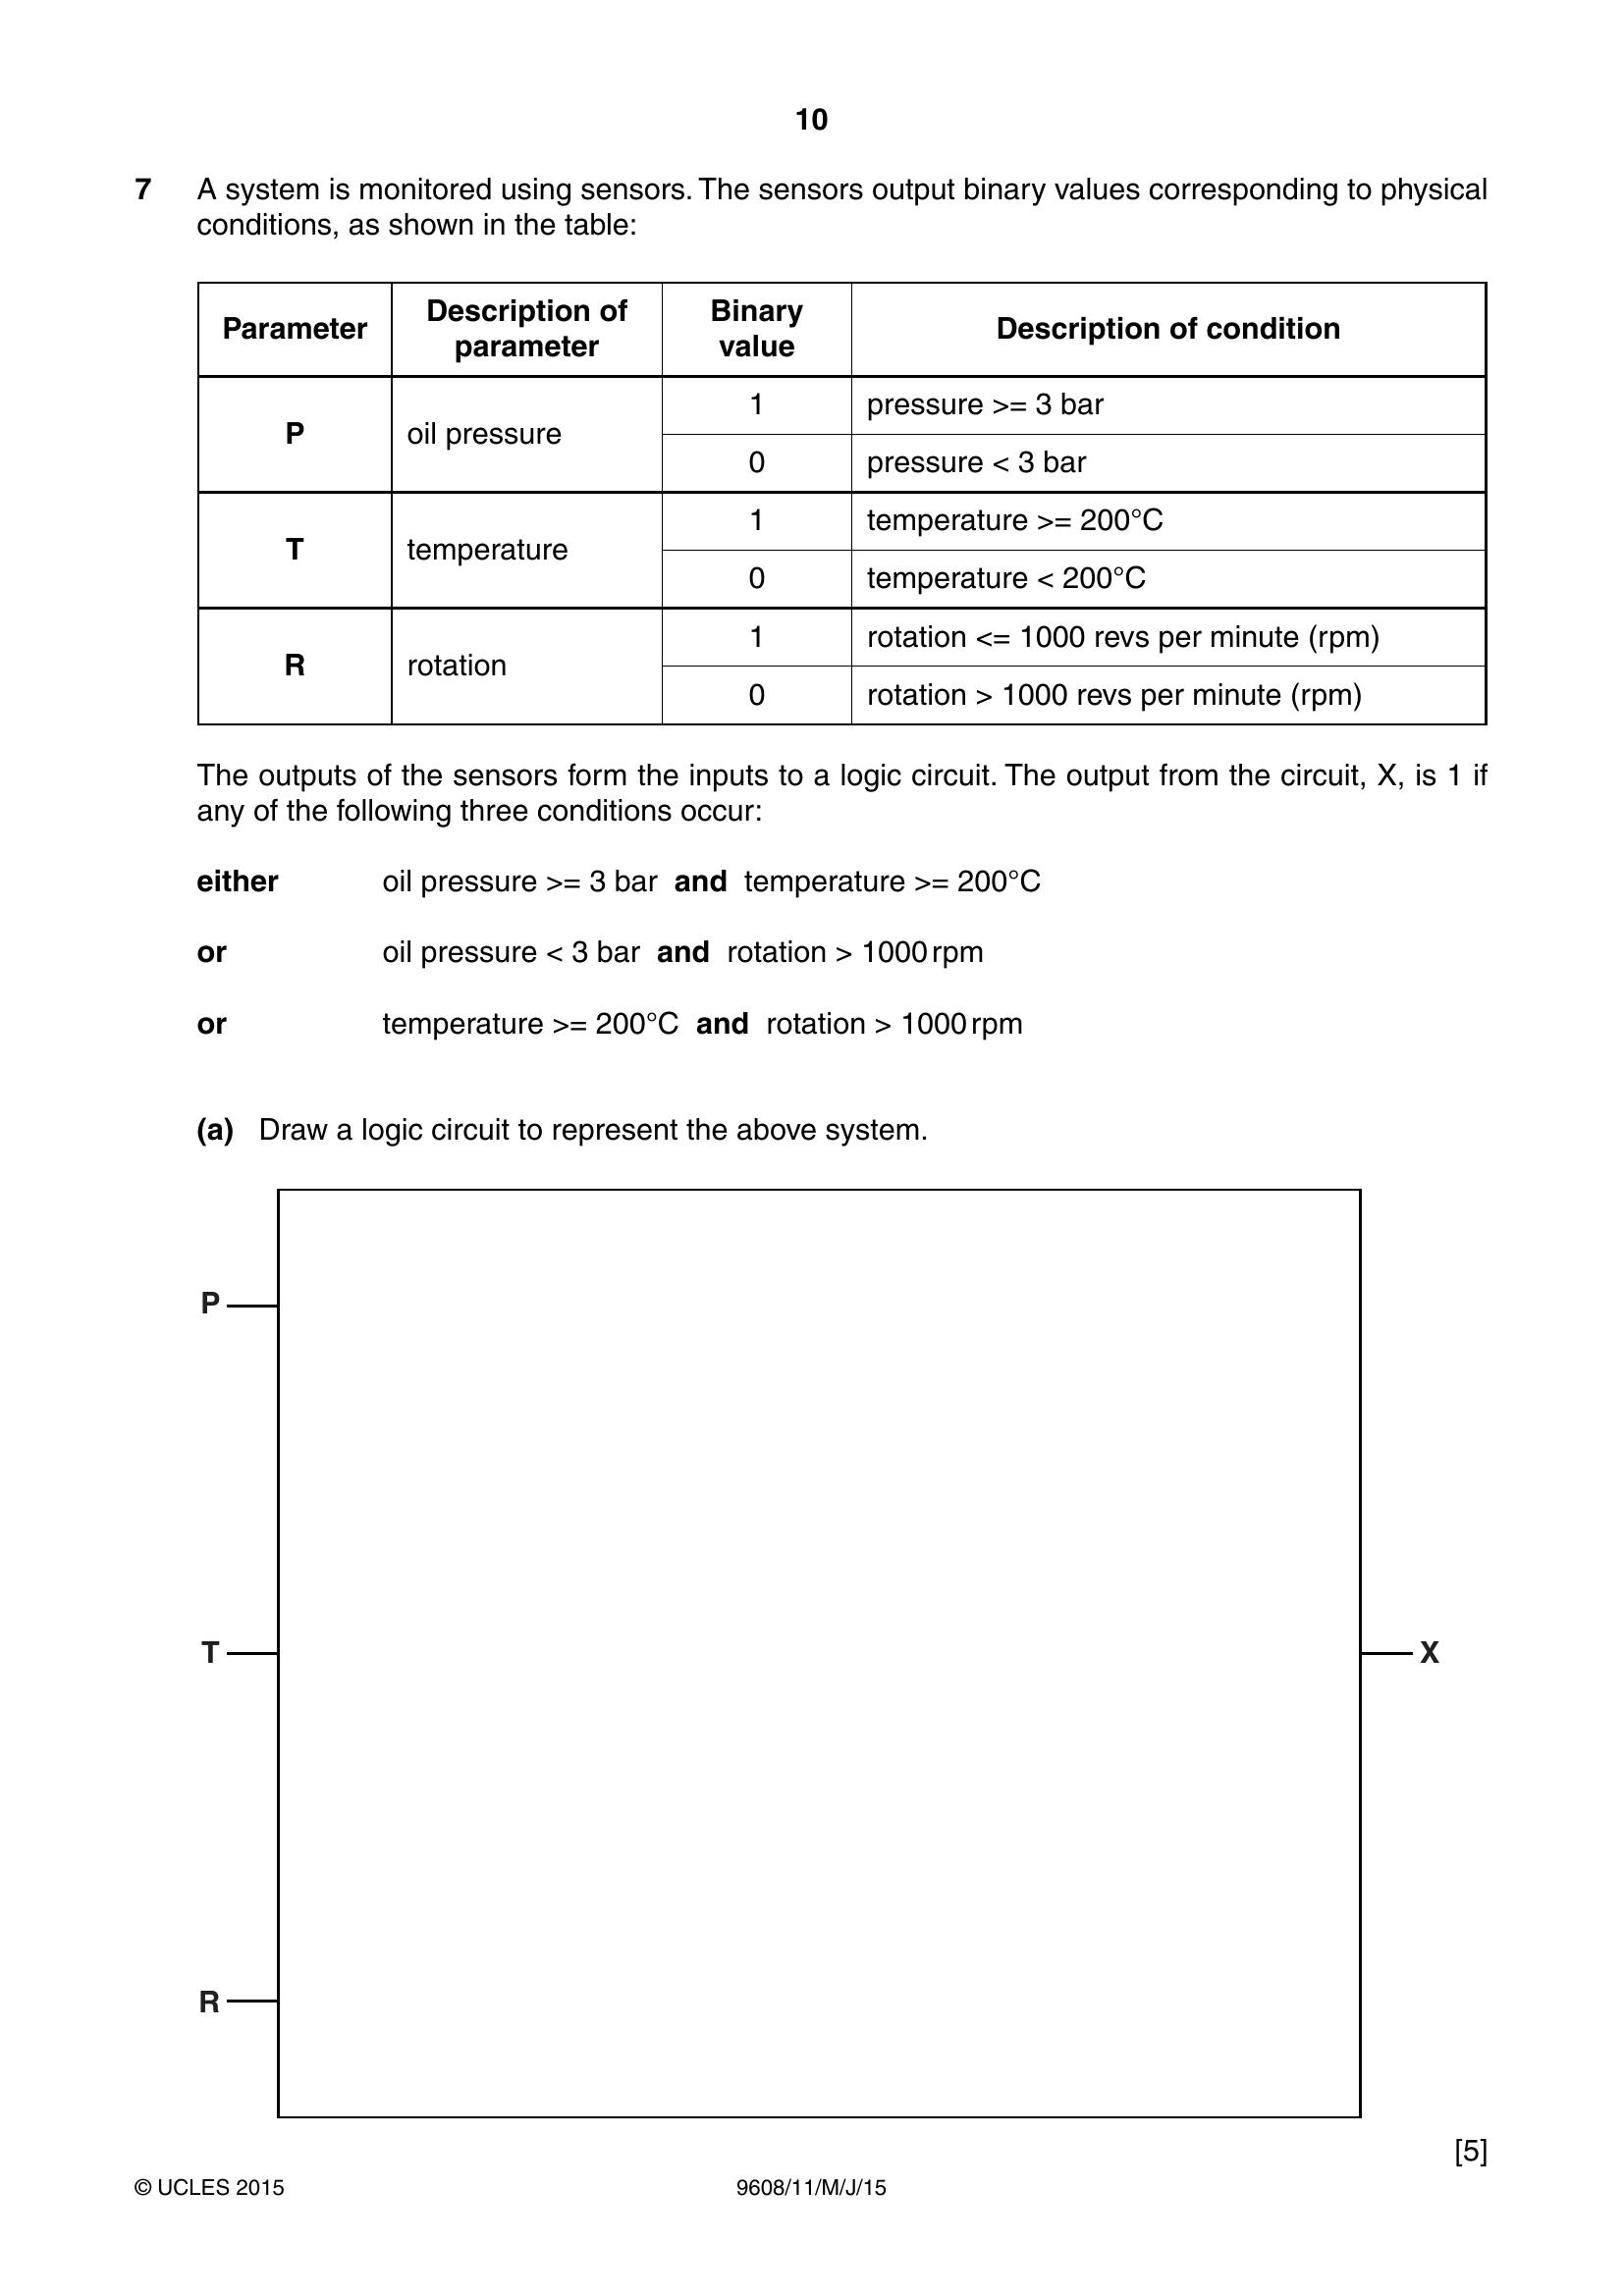question: (4, 137, 1624, 2161)
